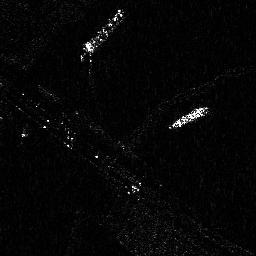ship: (169, 104, 211, 128)
